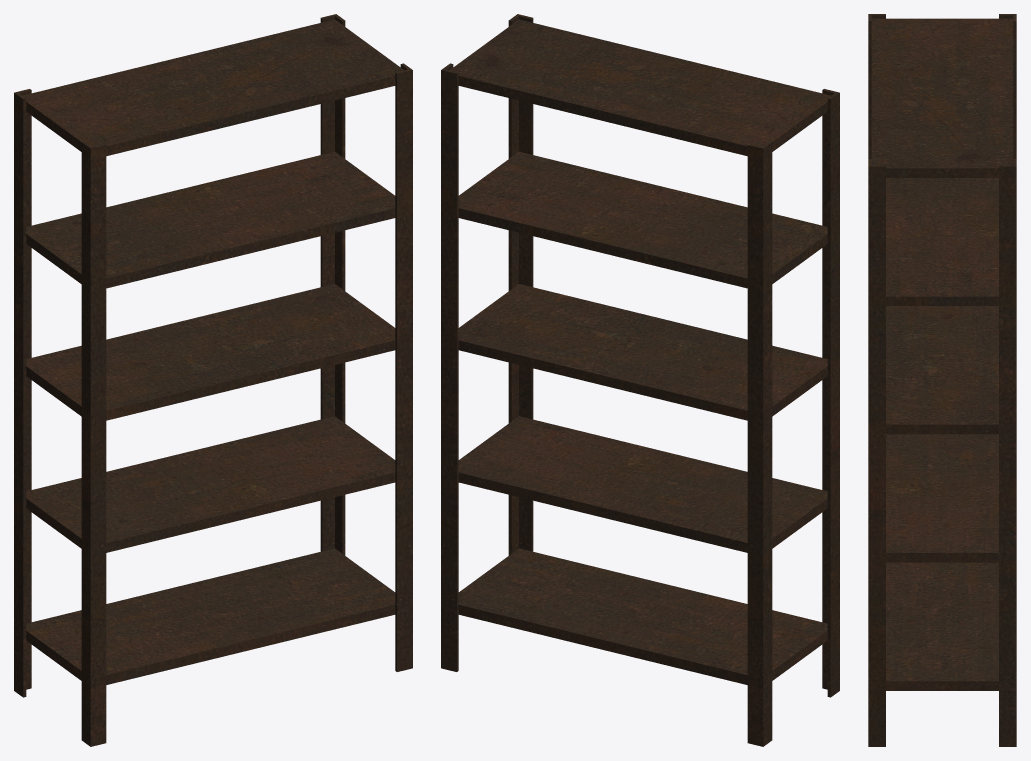
Rendered from shelf_mx_5.obj.
The picture shows the model from 3 angles, left to right: view 1: azimuth 30°, elevation 25°; view 2: azimuth 150°, elevation 25°; view 3: azimuth 270°, elevation 25°; orthographic projection. The views are drawn at different scales.
Visible parts, largest first — view 1: shelf_mx_5; view 2: shelf_mx_5; view 3: shelf_mx_5.
Boxes of the visible parts, <box> form: shelf_mx_5: <box>14,14,412,746</box>; shelf_mx_5: <box>441,14,839,746</box>; shelf_mx_5: <box>868,14,1016,746</box>.
Size of the model in its own units: 1.02 by 1.81 by 0.42.
